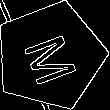M_E: (18, 25, 83, 86)
